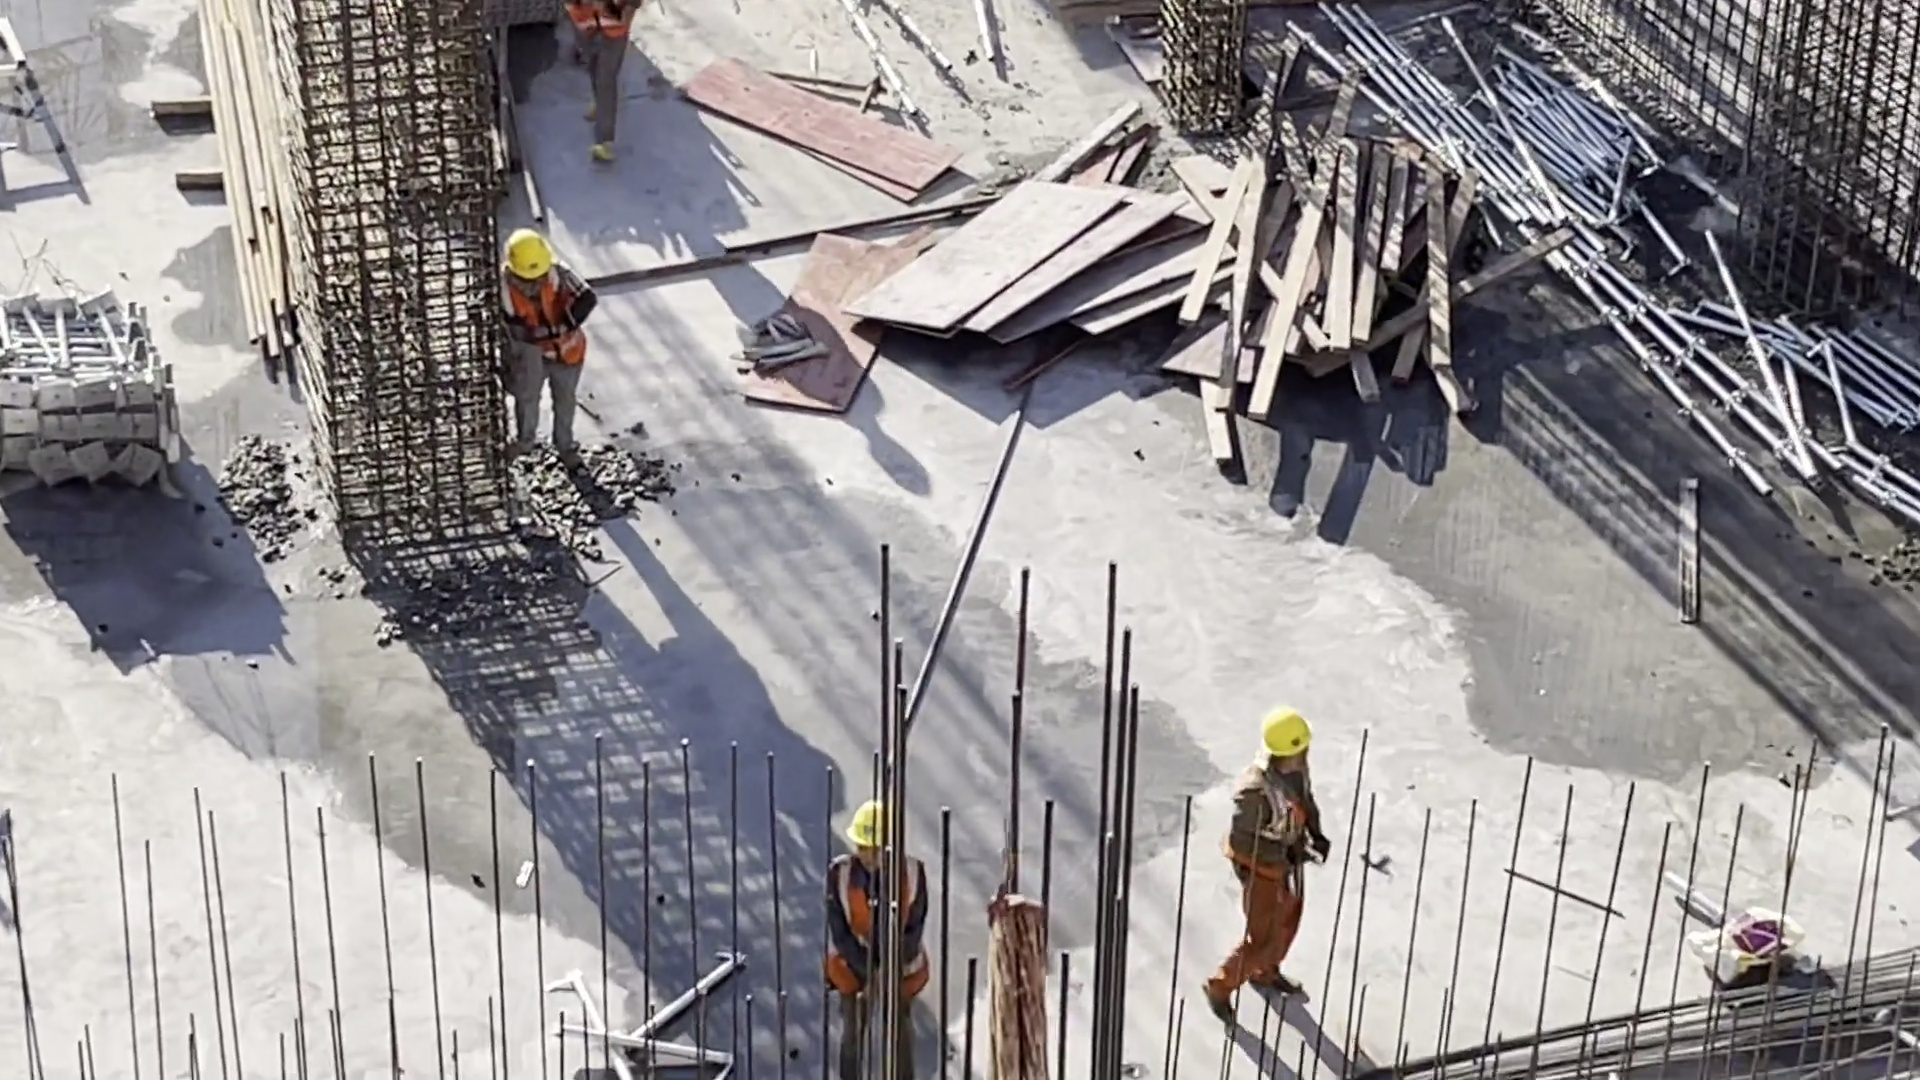board: (885, 183, 1192, 346)
helmet: (1256, 702, 1317, 758), (847, 800, 901, 849), (506, 223, 552, 272)
person: (821, 789, 933, 1072), (1222, 708, 1322, 1019), (486, 227, 596, 464), (562, 1, 641, 172)
rebar: (1406, 935, 1914, 1080)
scaffold: (1, 263, 197, 511), (1743, 281, 1891, 450), (1494, 41, 1605, 218)
vest: (820, 850, 934, 1005), (1233, 759, 1317, 884), (503, 264, 586, 370), (571, 1, 632, 45)
wood: (1190, 109, 1468, 388)
